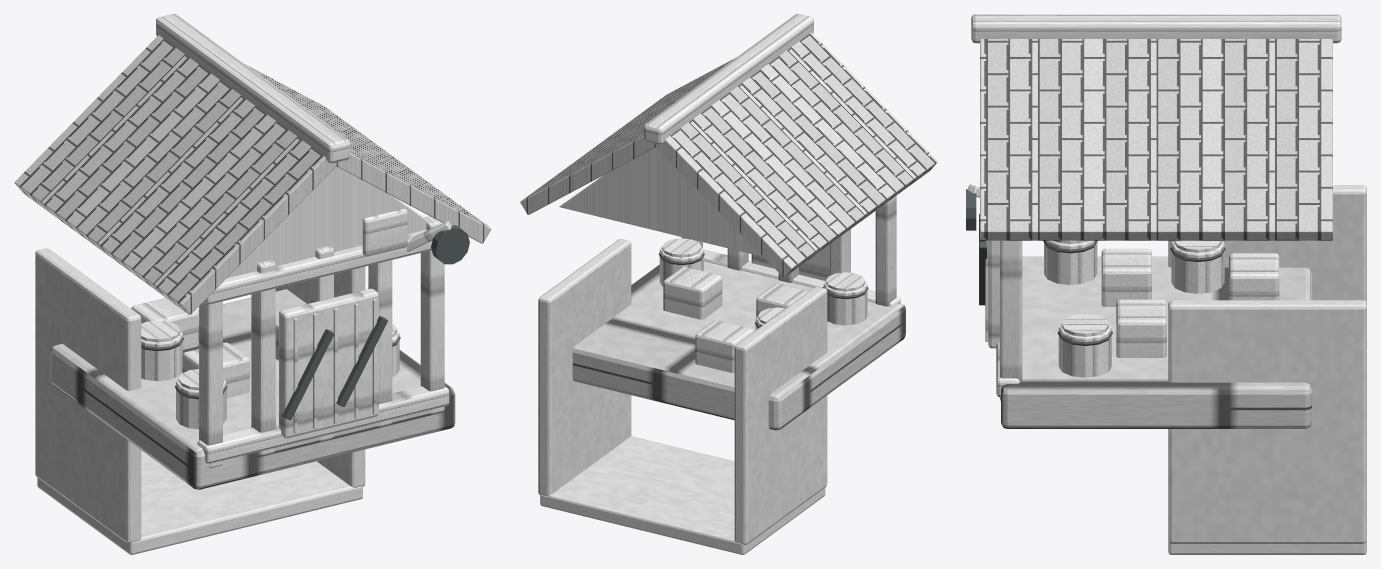
Rendered from warehouse.glb.
3 views of the same model, side by side, from view 1: azimuth 30°, elevation 25°; view 2: azimuth 150°, elevation 25°; view 3: azimuth 270°, elevation 25° (orthographic). The views are drawn at different scales.
Parts seen in each view (by area): view 1: TimberWarehouse_Geometry; view 2: TimberWarehouse_Geometry; view 3: TimberWarehouse_Geometry.
Part boxes in pixels (box(x1,y1,x2,y2)): TimberWarehouse_Geometry: box(14, 14, 491, 554); TimberWarehouse_Geometry: box(520, 14, 937, 554); TimberWarehouse_Geometry: box(966, 14, 1366, 554).
Bounding box in the file's own units: 2.55 × 3.56 × 2.71.
Materials: 9 (8 with a texture image).
